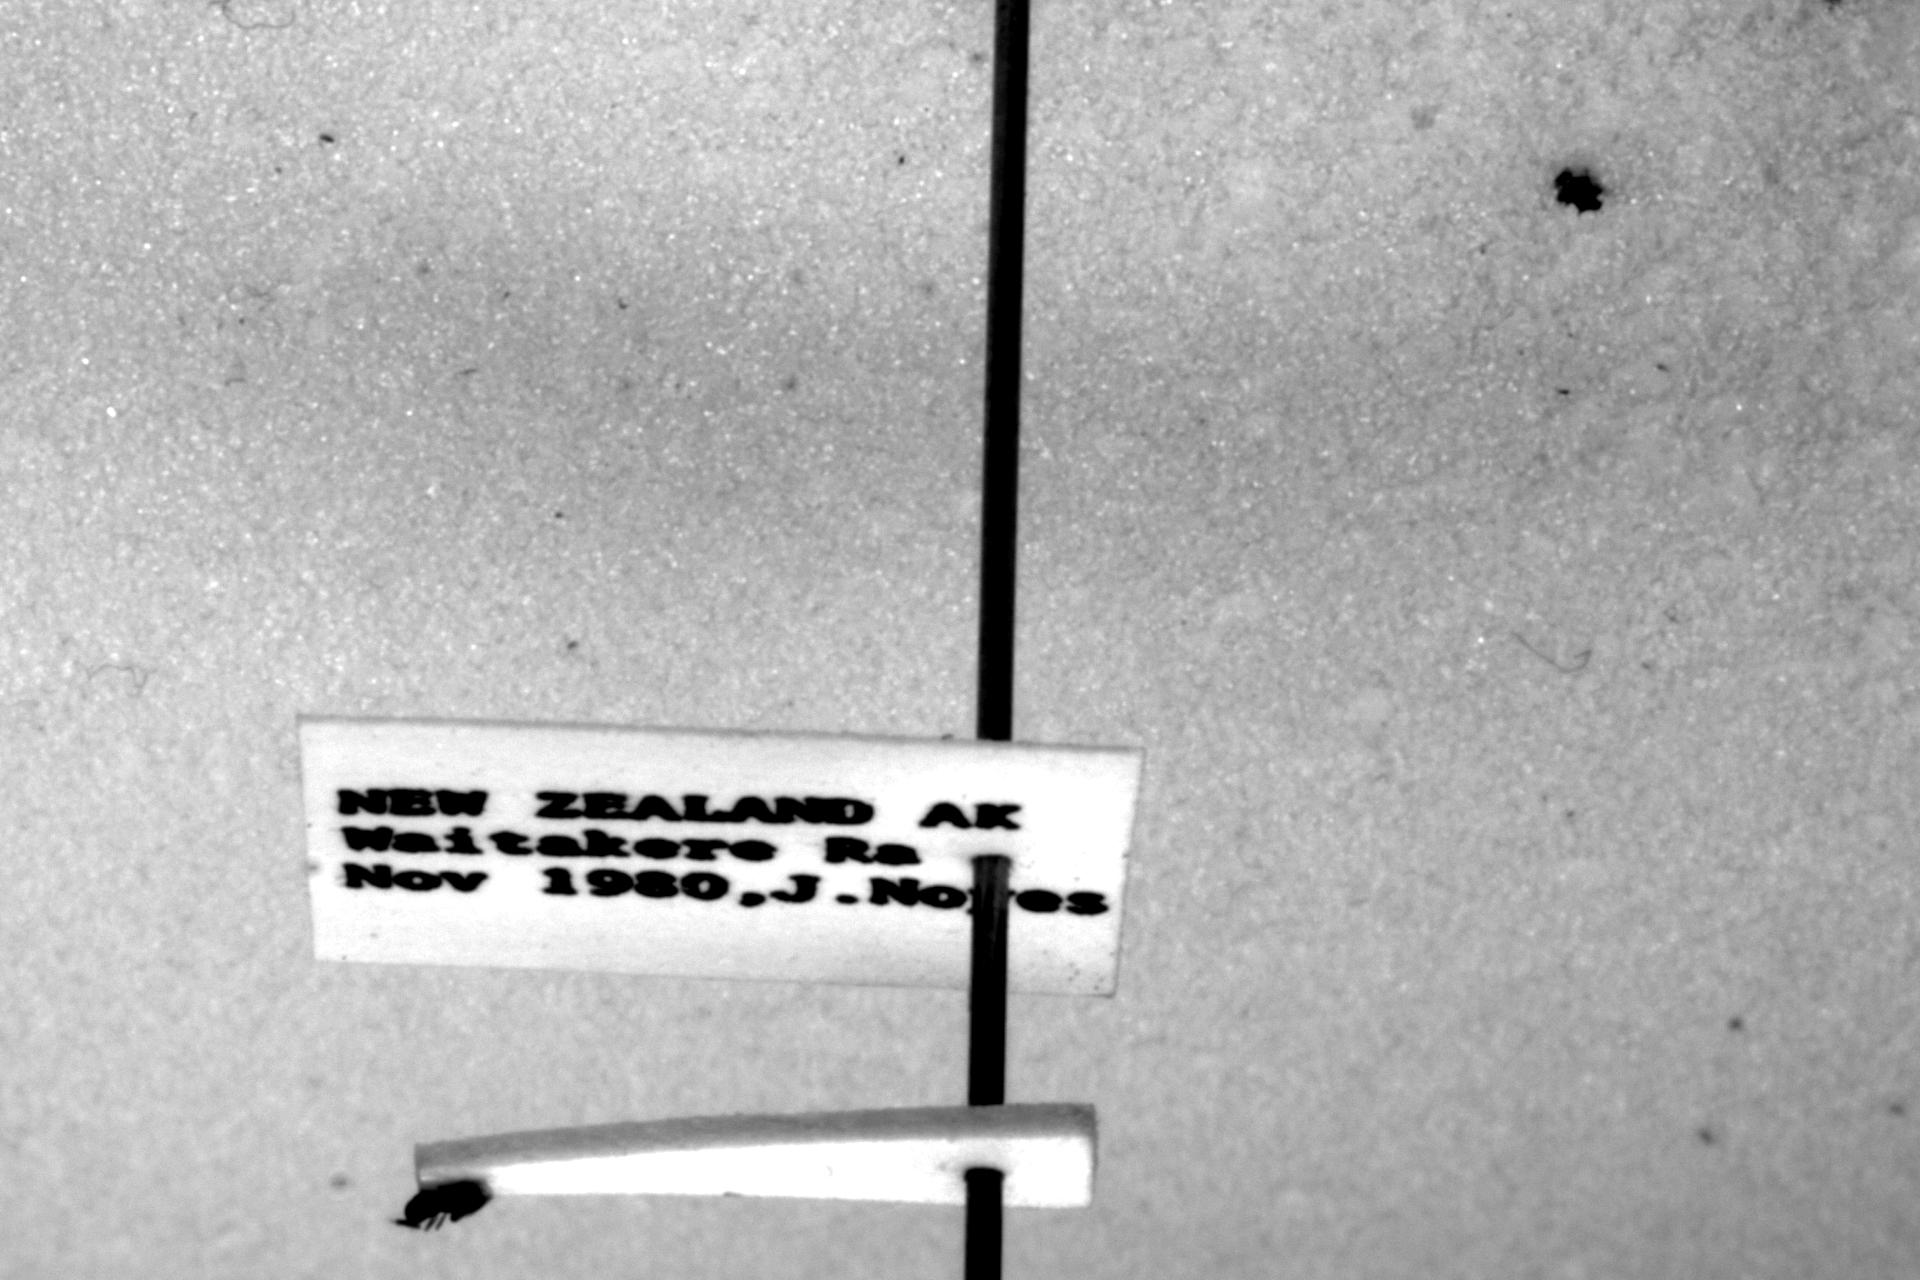typed_label: (300, 716, 1144, 994)
